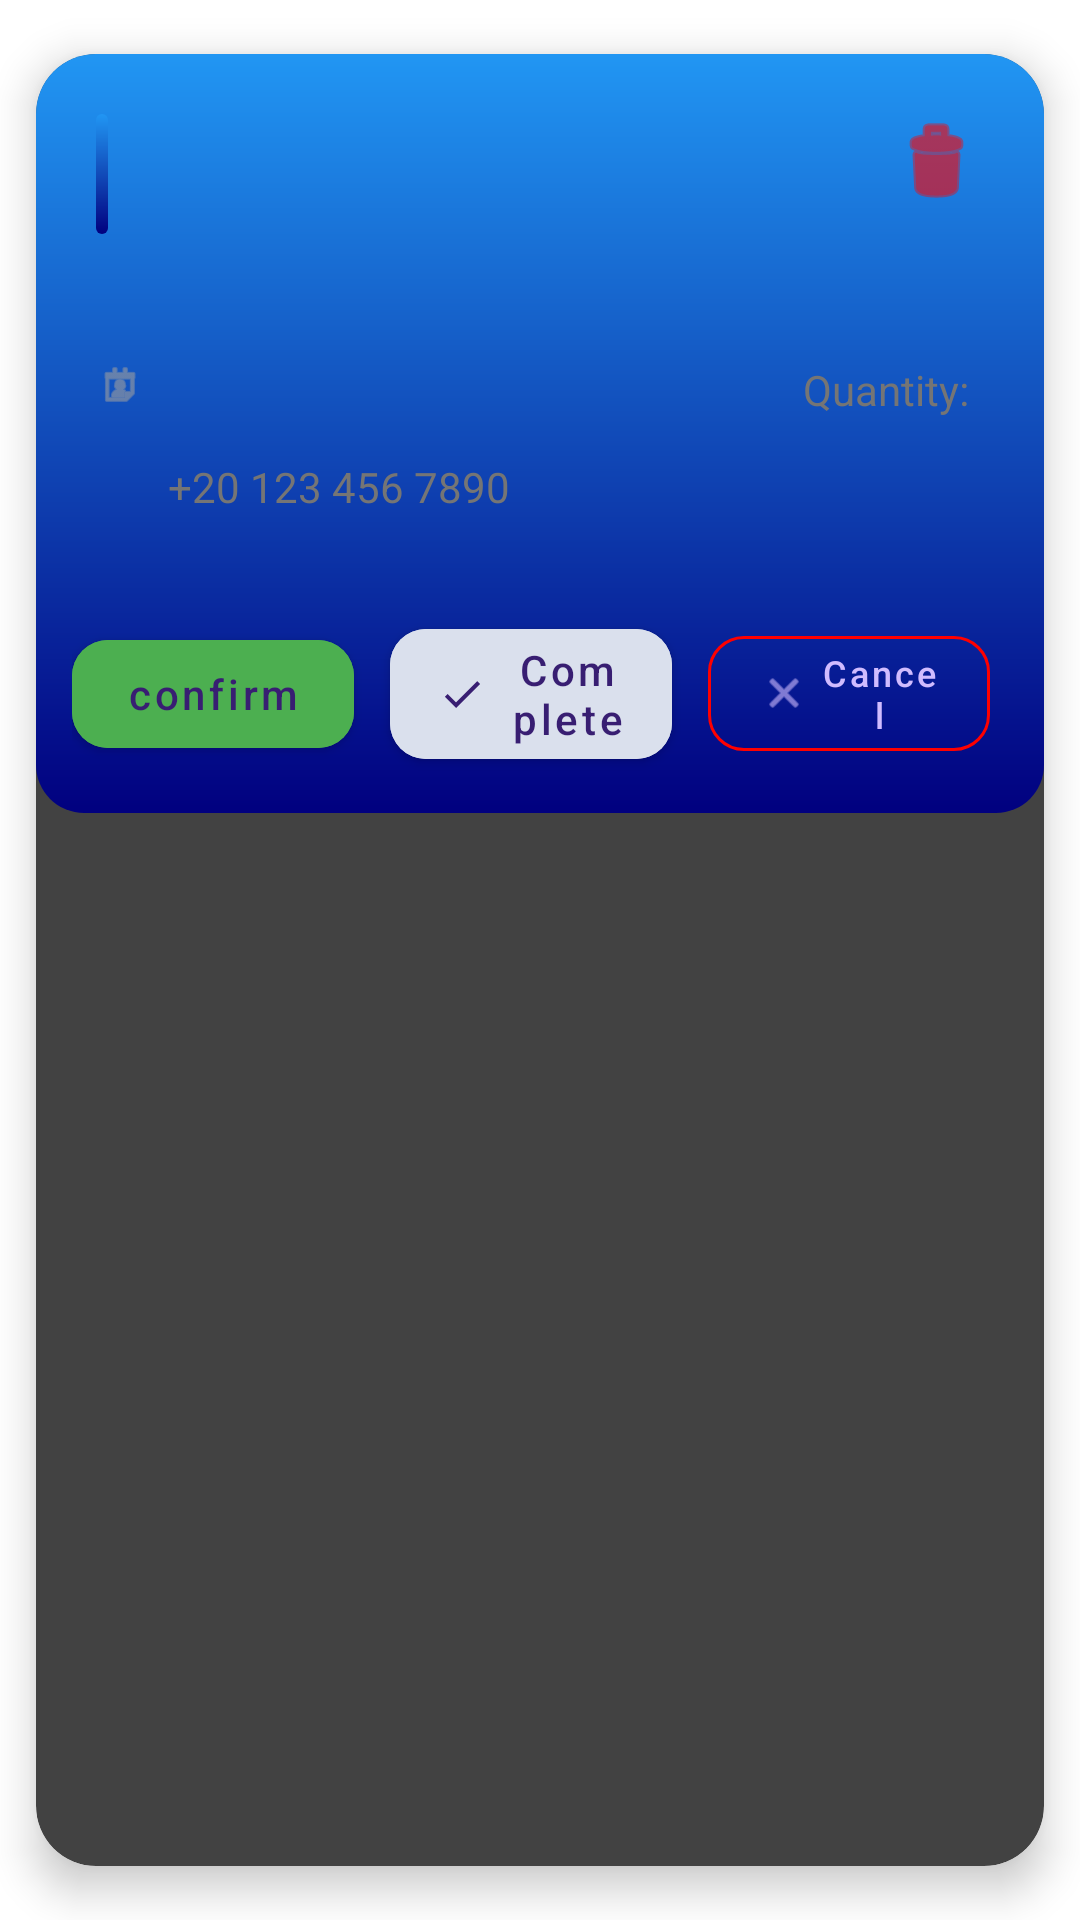

Icon click points for this 1080px×1920px phone screenshot, format [x,y]:
calendar: [120,384]
delete: [936,160]
